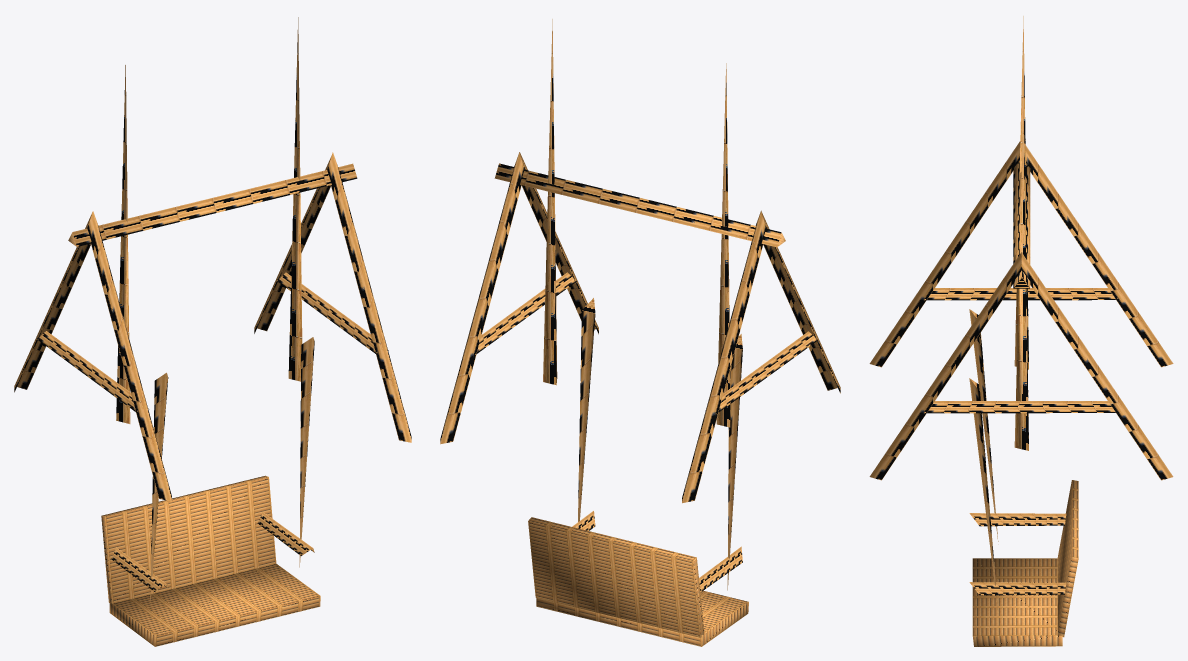
Rendered from 3422IMIG20_21.gltf.
3 views of the same model, side by side, from view 1: azimuth 30°, elevation 25°; view 2: azimuth 150°, elevation 25°; view 3: azimuth 270°, elevation 25° (orthographic). The views are drawn at different scales.
Visible parts, largest first — view 1: 3422IMIG20_21; view 2: 3422IMIG20_21; view 3: 3422IMIG20_21.
Part boxes in pixels (left/top/right/bottom): 3422IMIG20_21: left=14, top=17, right=411, bottom=646; 3422IMIG20_21: left=440, top=19, right=840, bottom=646; 3422IMIG20_21: left=869, top=16, right=1173, bottom=646.
Bounding box in the file's own units: 1.98 × 3.86 × 1.92.
2 materials, 2 textured.
